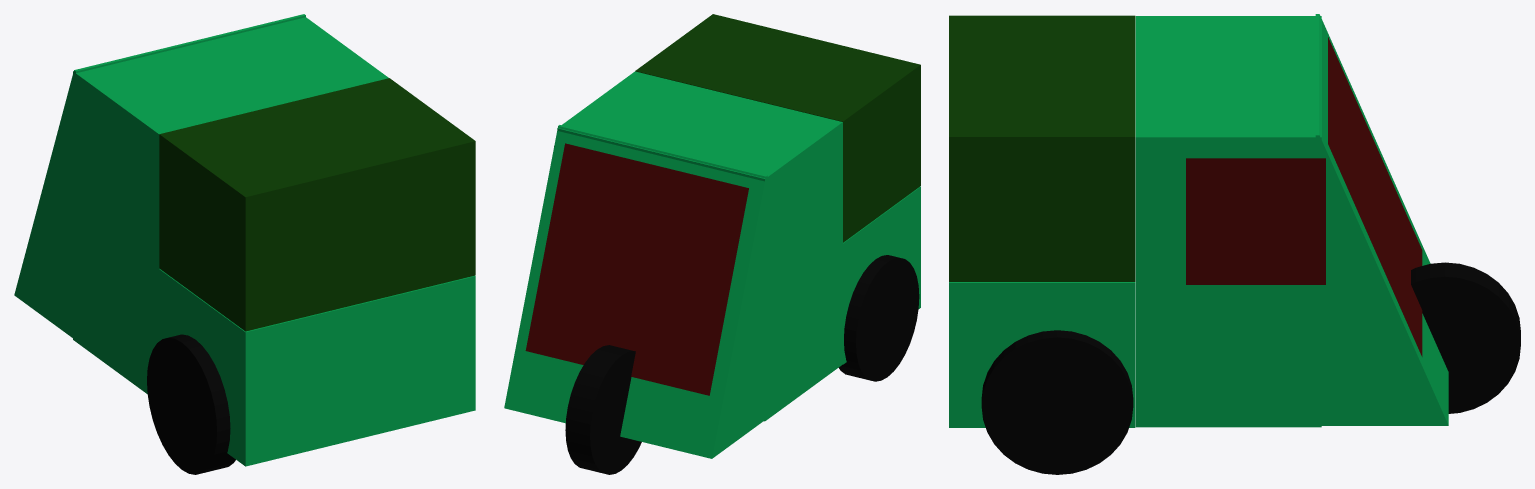
The model's file is CNG.fbx.
3 views of the same model, side by side, from view 1: azimuth 30°, elevation 25°; view 2: azimuth 150°, elevation 25°; view 3: azimuth 270°, elevation 25° (orthographic). The views are drawn at different scales.
Visible parts, largest first — view 1: Cube.065, Cube.060, Cube.066, Cube.064, Circle.255; view 2: Plane.139, Cube.060, Cube.065, Cube.064, Circle.255, Circle.253, Cube.066; view 3: Cube.060, Cube.065, Cube.064, Plane.141, Circle.254, Cube.066, Circle.253, Plane.139.
Part boxes in pixels (<box>): Cube.065: <box>159,78,475,331</box>; Cube.060: <box>73,17,388,393</box>; Cube.066: <box>159,269,475,466</box>; Cube.064: <box>14,14,305,340</box>; Circle.255: <box>147,334,235,474</box>; Plane.139: <box>525,143,748,395</box>; Cube.060: <box>557,71,842,421</box>; Cube.065: <box>635,14,920,242</box>; Cube.064: <box>504,125,767,458</box>; Circle.255: <box>838,255,919,381</box>; Circle.253: <box>565,345,641,474</box>; Cube.066: <box>843,186,920,364</box>; Cube.060: <box>1135,16,1321,427</box>; Cube.065: <box>949,15,1135,281</box>; Cube.064: <box>1315,14,1448,425</box>; Plane.141: <box>1186,158,1325,284</box>; Circle.254: <box>981,330,1133,474</box>; Cube.066: <box>949,282,1135,427</box>; Circle.253: <box>1411,262,1520,413</box>; Plane.139: <box>1328,37,1422,356</box>.
Size of the model in its own units: 224 by 255 by 398.
